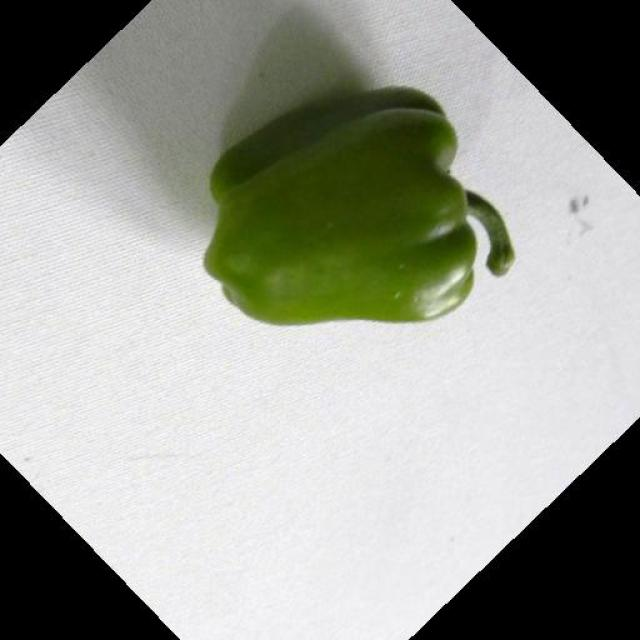Fresh_Capsicum: (179, 69, 537, 368)
